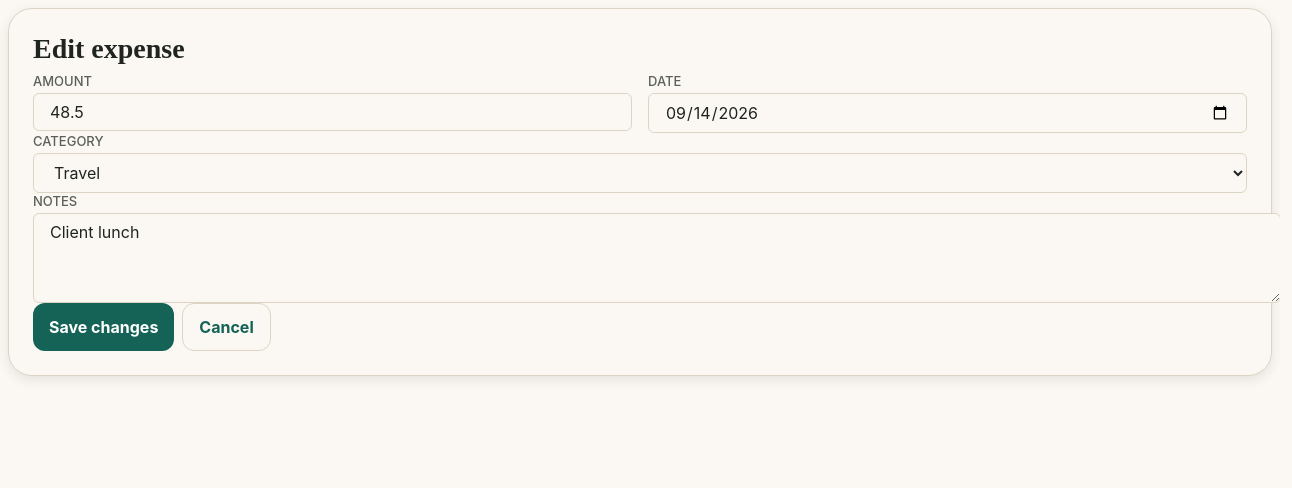
Test: EditExpenseForm › shows a conflict error prompting a reload when the save is rejected (AC9)
Click the button "Save changes". click: (104, 327)
box: [33,303,174,351]
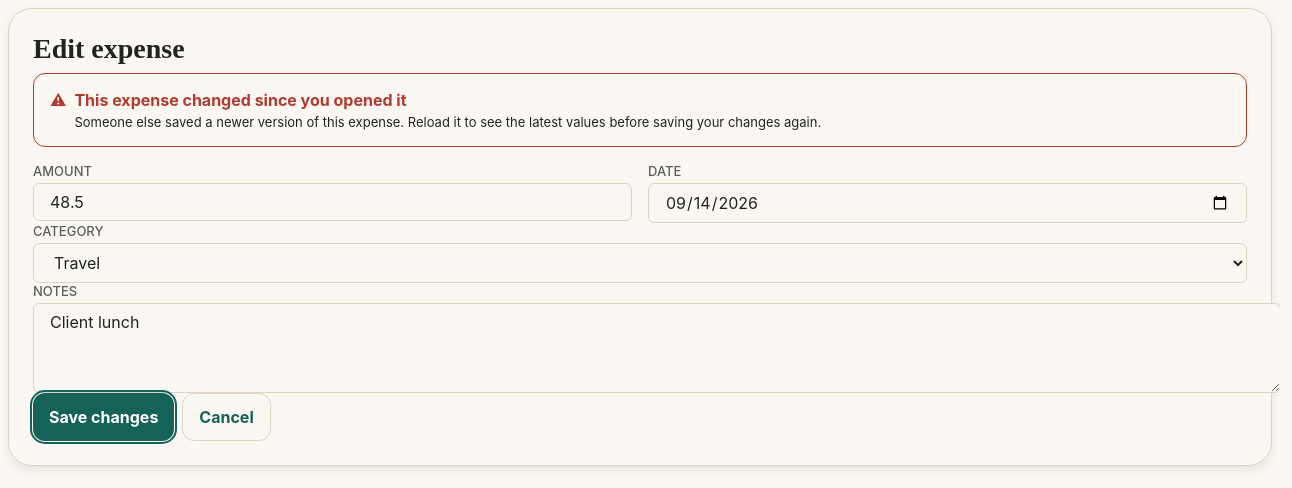
Expected: the text "This expense changed since you opened it" is shown, [74,90,406,110]
Expected: the text "reload it to see the latest values" is shown, [74,114,821,130]
